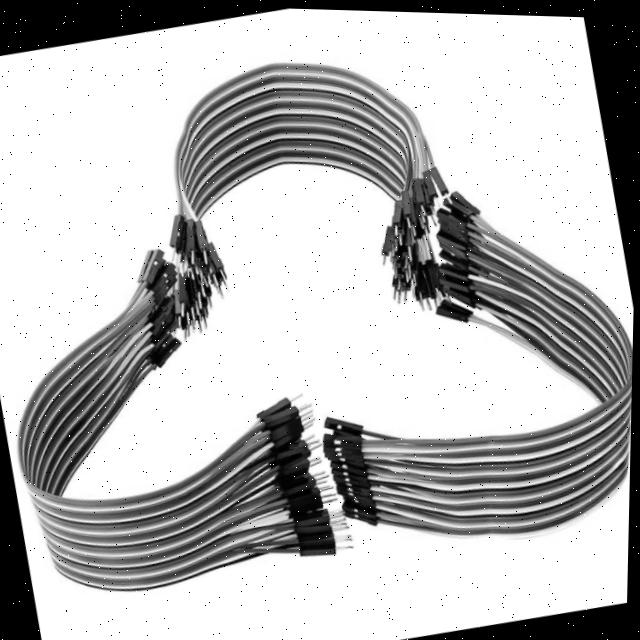Jumper Wires: (0, 12, 634, 633)
